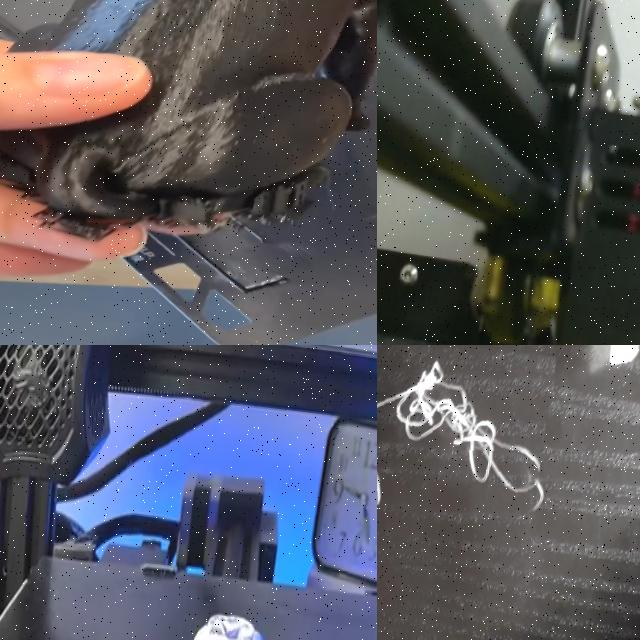spaghetti: (377, 345, 556, 590)
